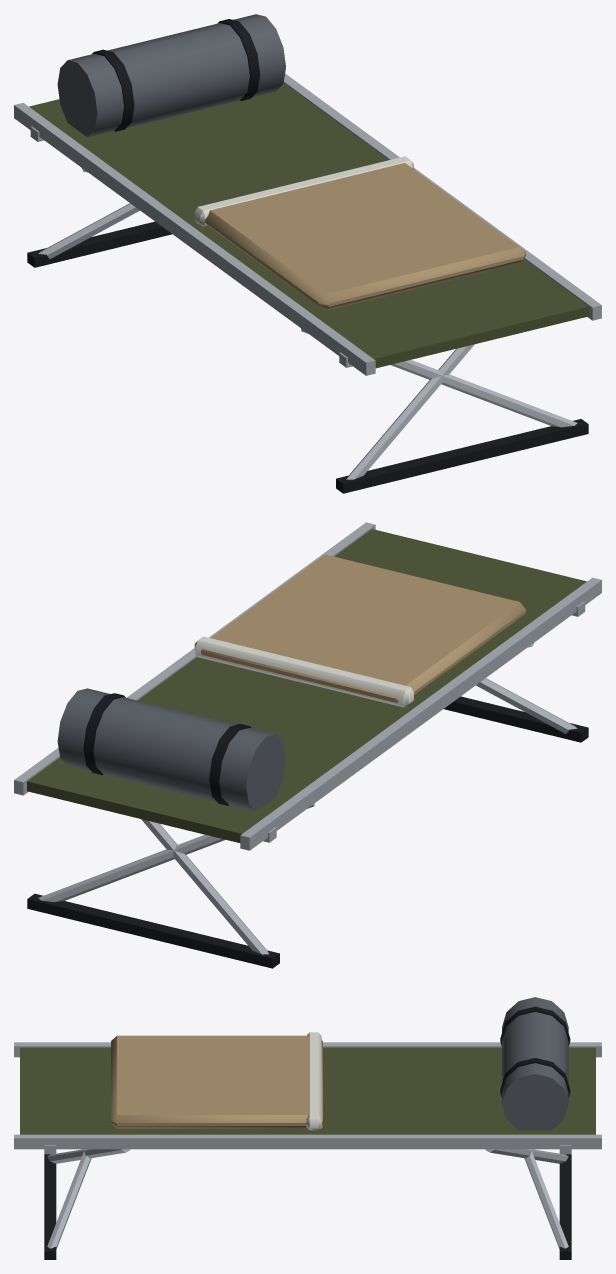
Rendered from bed_folding_cot.glb.
3 views of the same model, one above another, from view 1: azimuth 30°, elevation 25°; view 2: azimuth 150°, elevation 25°; view 3: azimuth 270°, elevation 25° (orthographic). The views are drawn at different scales.
Visible parts, largest first — view 1: bed_folding_cot; view 2: bed_folding_cot; view 3: bed_folding_cot.
Part boxes in pixels (x1=…): bed_folding_cot: x1=14, y1=14, x2=601, y2=493; bed_folding_cot: x1=14, y1=522, x2=601, y2=968; bed_folding_cot: x1=14, y1=997, x2=601, y2=1259.
Bounding box in the file's own units: 0.78 × 0.64 × 1.94.
